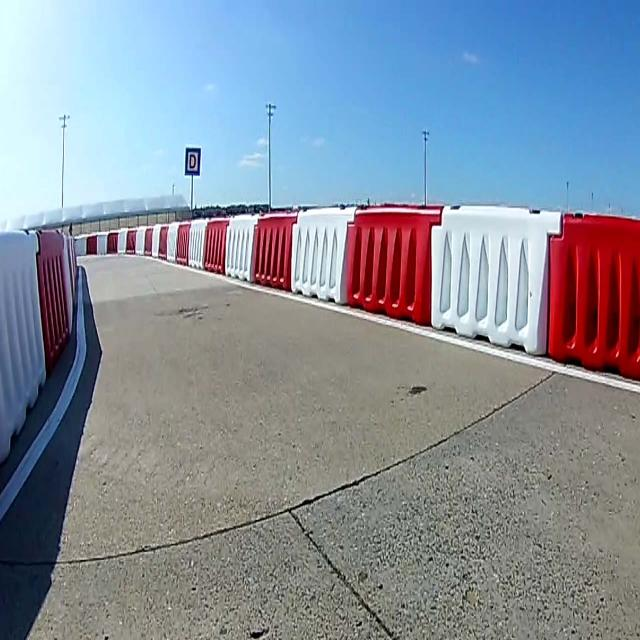durak: (185, 147, 201, 177)
